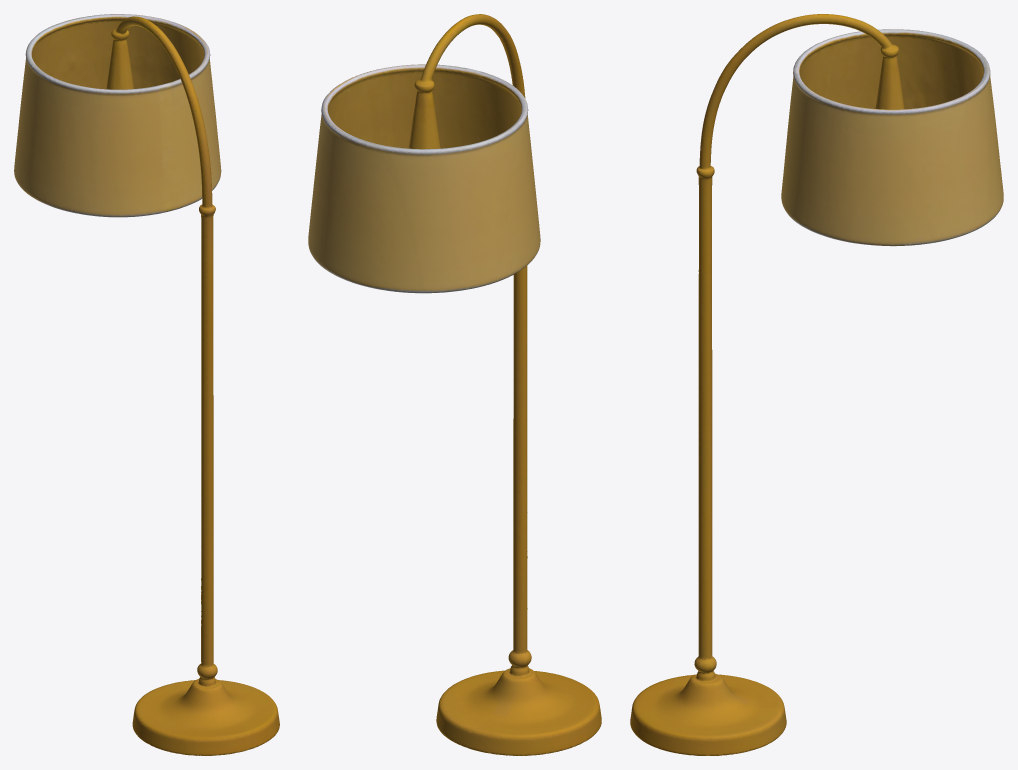
The model's file is floor_lamp_brass.glb.
3 views of the same model, side by side, from view 1: azimuth 30°, elevation 25°; view 2: azimuth 150°, elevation 25°; view 3: azimuth 270°, elevation 25° (orthographic). The views are drawn at different scales.
Parts seen in each view (by area): view 1: tripo_node_5f73cc4a-eeb2-4569-bfd3-6636cd716be0; view 2: tripo_node_5f73cc4a-eeb2-4569-bfd3-6636cd716be0; view 3: tripo_node_5f73cc4a-eeb2-4569-bfd3-6636cd716be0.
Boxes of the visible parts, x1,y1,x2,y2 form: tripo_node_5f73cc4a-eeb2-4569-bfd3-6636cd716be0: (14, 14, 279, 755); tripo_node_5f73cc4a-eeb2-4569-bfd3-6636cd716be0: (308, 14, 601, 755); tripo_node_5f73cc4a-eeb2-4569-bfd3-6636cd716be0: (630, 14, 1003, 755).
Bounding box in the file's own units: 0.2817 × 1 × 0.4779.
1 material, 1 textured.
